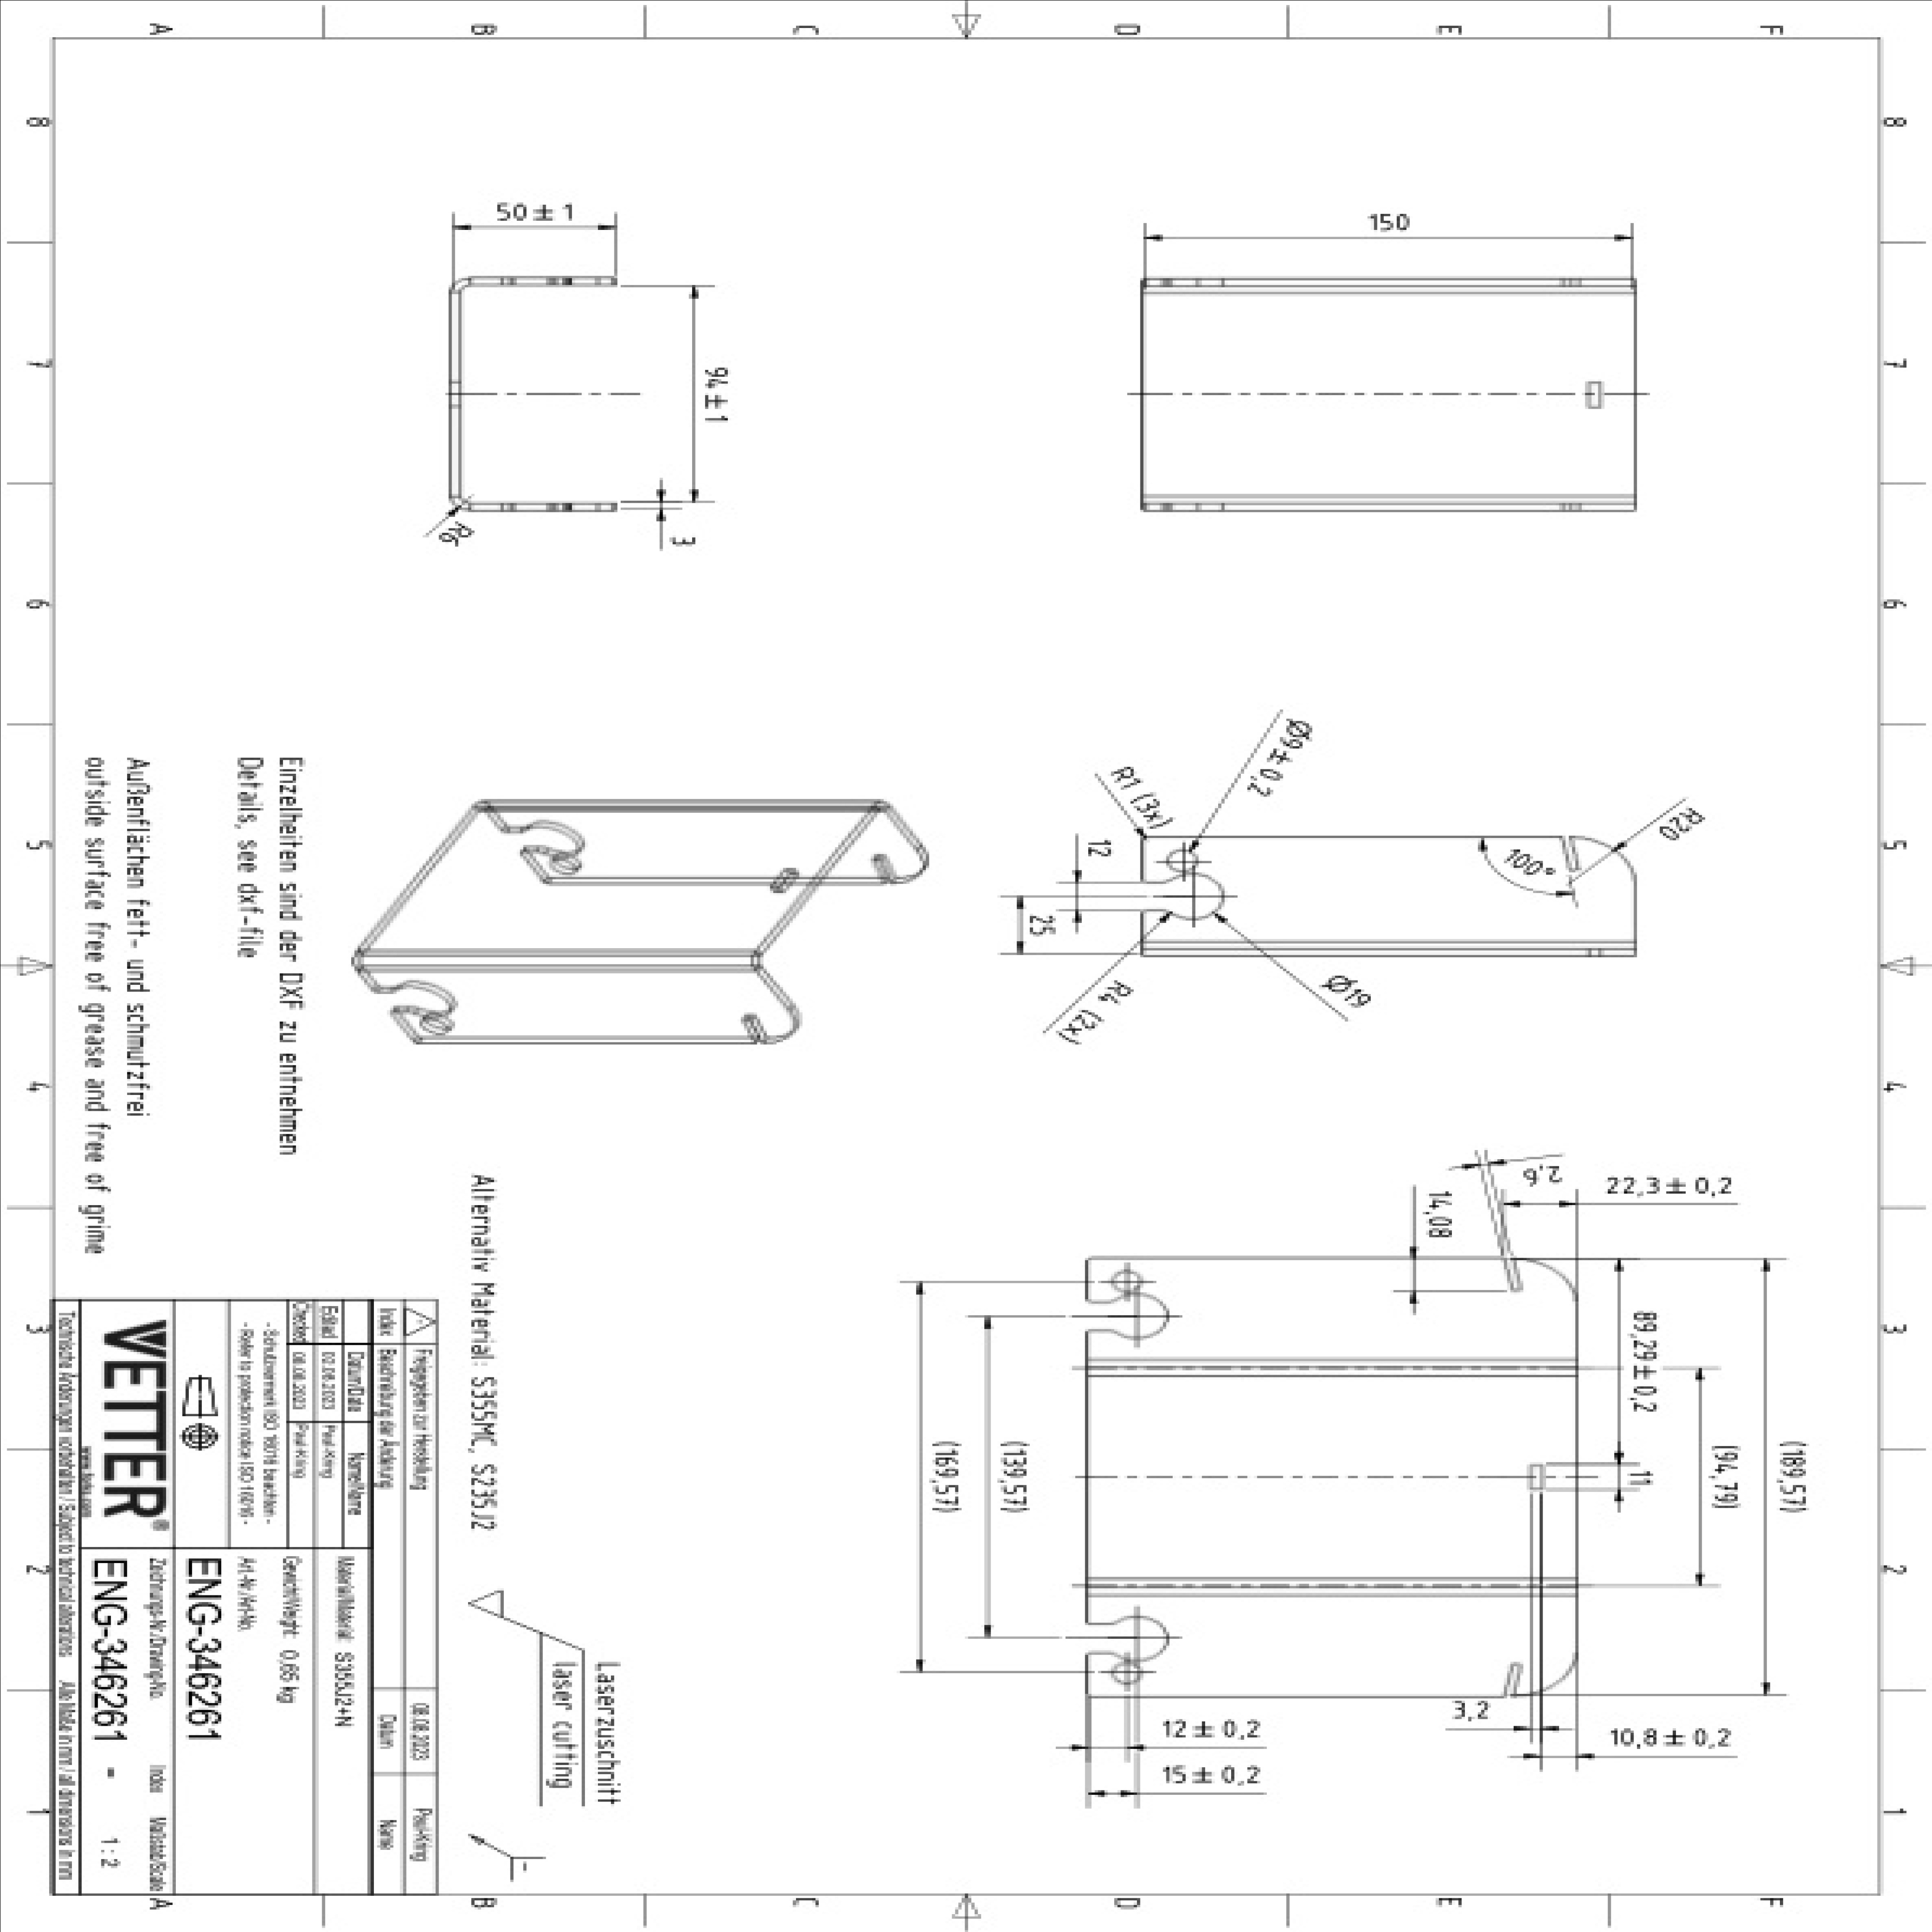InnerContour: (1108, 1267, 1146, 1295), (1162, 849, 1203, 872), (545, 856, 586, 876), (418, 1016, 456, 1035), (1109, 1663, 1145, 1684)
InnerContourAngular: (768, 862, 803, 901), (1529, 1454, 1548, 1499), (1585, 380, 1605, 410)
Notch: (1141, 872, 1228, 922), (1086, 1615, 1173, 1663), (1088, 1293, 1171, 1341), (502, 814, 589, 858), (377, 978, 460, 1016), (1497, 1247, 1534, 1293), (1552, 828, 1585, 870), (1499, 1658, 1523, 1700)
